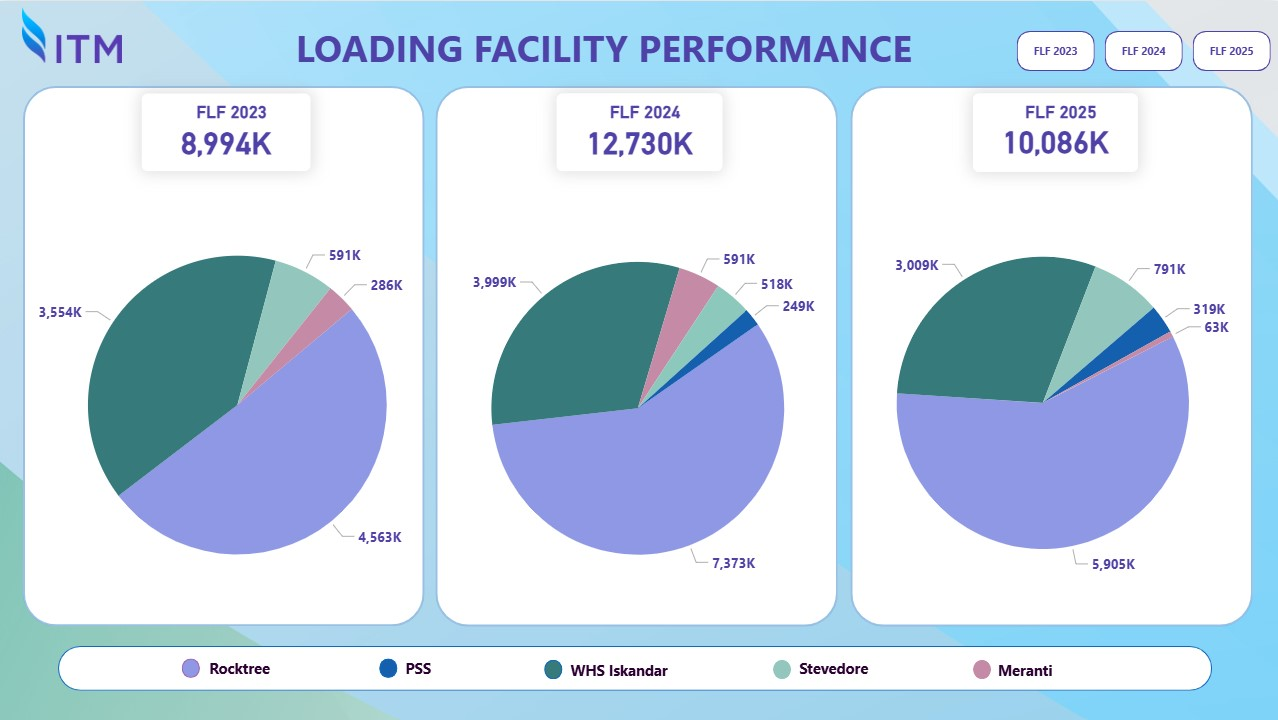

The dashboard page shown, as its layout file describes it:
{"tool":"powerbi","page":{"name":"Distribusi FLF","canvas":[1280,720],"ordinal":0},"visuals":[{"type":"shape","box":[552.2,163.1,181.2,97.6],"z":0},{"type":"shape","box":[945.6,163.1,181.2,102.4],"z":1000},{"type":"shape","box":[852.4,84.5,402.4,540.5],"z":2000},{"type":"shape","box":[25.4,85.1,401.5,540.3],"z":3000},{"type":"pieChart","fields":{"Category":["Dim Mapping.Group"],"Y":["Sum(2023.Amount)"]},"box":[0,162.7,479.1,483.6],"z":4000},{"type":"shape","box":[438.1,84.5,402.4,540.5],"z":5000},{"type":"card","title":"FLF 2023","fields":{"Values":["Sum(2023.Amount)"]},"box":[143.3,92.1,168.7,77.6],"z":6000},{"type":"pieChart","fields":{"Category":["Dim Mapping.Group"],"Y":["Sum(2024.Amount)"]},"box":[405,170,470,475],"z":7000},{"type":"card","title":"FLF 2024","fields":{"Values":["Sum(2024.Amount)"]},"box":[558.2,92.1,165.7,77.6],"z":8000},{"type":"pieChart","fields":{"Category":["Dim Mapping.Group"],"Y":["Sum(2025.Amount)"]},"box":[810,163.3,470,476.7],"z":9000},{"type":"card","title":"FLF 2025","fields":{"Values":["Sum(2025.Amount)"]},"box":[975,92.5,165,78.8],"z":10000},{"type":"textbox","box":[252.2,16.7,666.7,72.6],"z":11000},{"type":"shape","box":[59.7,644.8,1154.1,44.7],"z":12000},{"type":"shape","box":[183.2,657.5,18.1,19.5],"z":13000},{"type":"shape","box":[380.9,657.9,18.1,19.5],"z":14000},{"type":"shape","box":[546.7,658.7,18.1,19.5],"z":15000},{"type":"shape","box":[775,658.7,18.1,19.5],"z":16000},{"type":"shape","box":[975,658.7,18.1,19.5],"z":17000},{"type":"textbox","box":[205.9,652,86.3,30.6],"z":18000},{"type":"textbox","box":[403.1,652.3,86.3,30.6],"z":19000},{"type":"textbox","box":[568,653.2,128,30.6],"z":20000},{"type":"textbox","box":[796.7,652.5,85.7,31],"z":21000},{"type":"textbox","box":[994.9,653.6,86.4,31.6],"z":22000},{"type":"image","box":[0,1.4,148.2,65.9],"z":23000},{"type":"pageNavigator","box":[1018.5,30.2,256.2,40],"z":24000}]}

Visuals, with their boxes in screenshot pixels (x1, y1, x2, y2), scaled from the page's 1280x720 canvas onto the 1278x720 screenshot:
shape: locate(551, 163, 732, 261)
shape: locate(944, 163, 1125, 266)
shape: locate(851, 84, 1253, 625)
shape: locate(25, 85, 426, 625)
pieChart - Dim Mapping.Group x Sum(2023.Amount): locate(0, 163, 478, 646)
shape: locate(437, 84, 839, 625)
"FLF 2023" card: locate(143, 92, 312, 170)
pieChart - Dim Mapping.Group x Sum(2024.Amount): locate(404, 170, 874, 645)
"FLF 2024" card: locate(557, 92, 723, 170)
pieChart - Dim Mapping.Group x Sum(2025.Amount): locate(809, 163, 1277, 640)
"FLF 2025" card: locate(973, 92, 1138, 171)
textbox: locate(252, 17, 917, 89)
shape: locate(60, 645, 1212, 690)
shape: locate(183, 658, 201, 677)
shape: locate(380, 658, 398, 677)
shape: locate(546, 659, 564, 678)
shape: locate(774, 659, 792, 678)
shape: locate(973, 659, 992, 678)
textbox: locate(206, 652, 292, 683)
textbox: locate(402, 652, 489, 683)
textbox: locate(567, 653, 695, 684)
textbox: locate(795, 652, 881, 684)
textbox: locate(993, 654, 1080, 685)
image: locate(0, 1, 148, 67)
pageNavigator: locate(1017, 30, 1273, 70)
